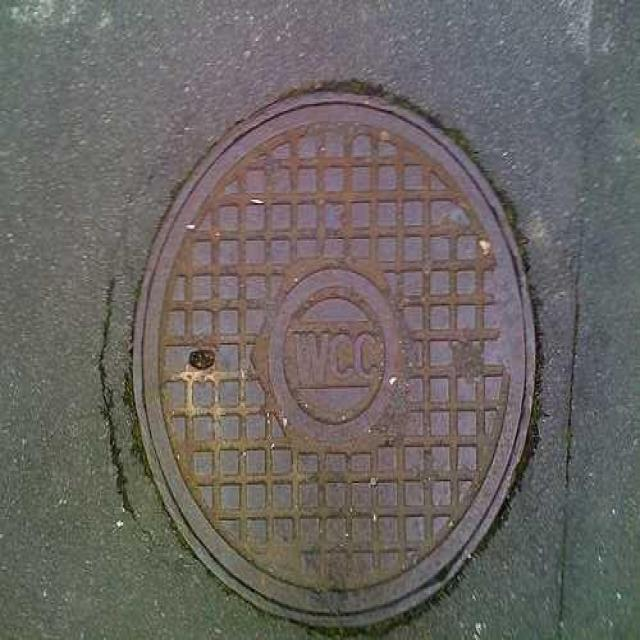manhole: (135, 92, 535, 626)
